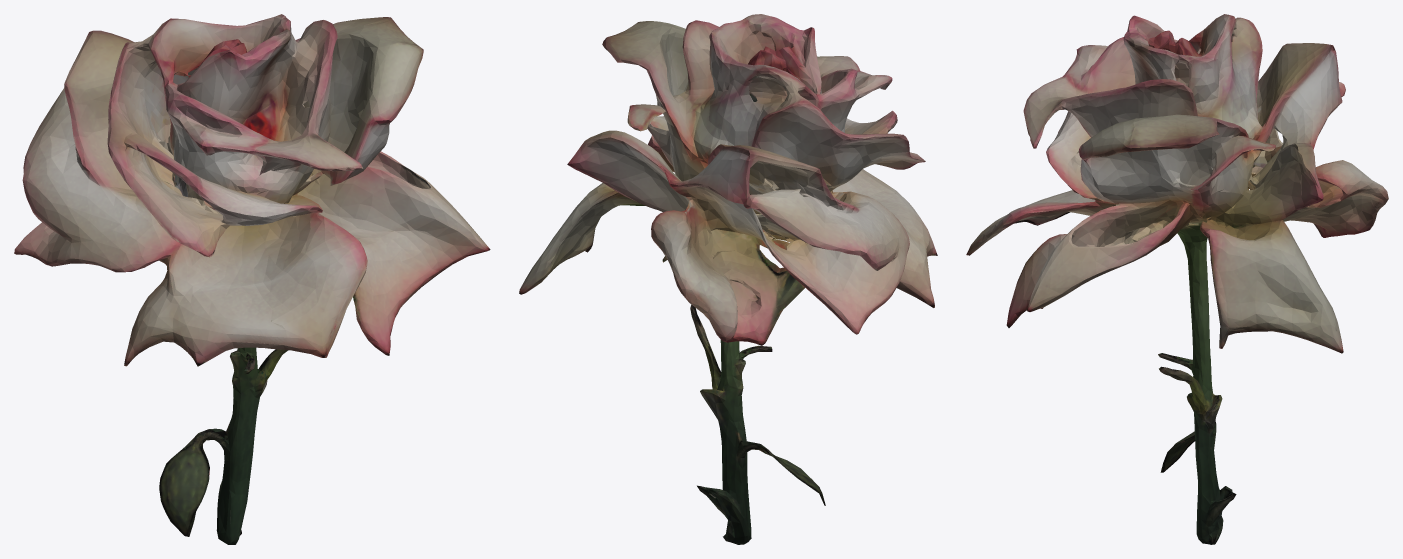
3 views of the same model, side by side, from view 1: azimuth 30°, elevation 25°; view 2: azimuth 150°, elevation 25°; view 3: azimuth 270°, elevation 25° (orthographic). The views are drawn at different scales.
Parts seen in each view (by area): view 1: world; view 2: world; view 3: world.
Boxes of the visible parts, box(x1,y1,x2,y2) form: world: box(14, 14, 490, 544); world: box(519, 14, 937, 544); world: box(966, 14, 1388, 544).
Bounding box in the file's own units: 0.5739 × 0.8618 × 0.6472.
1 material, 1 textured.
